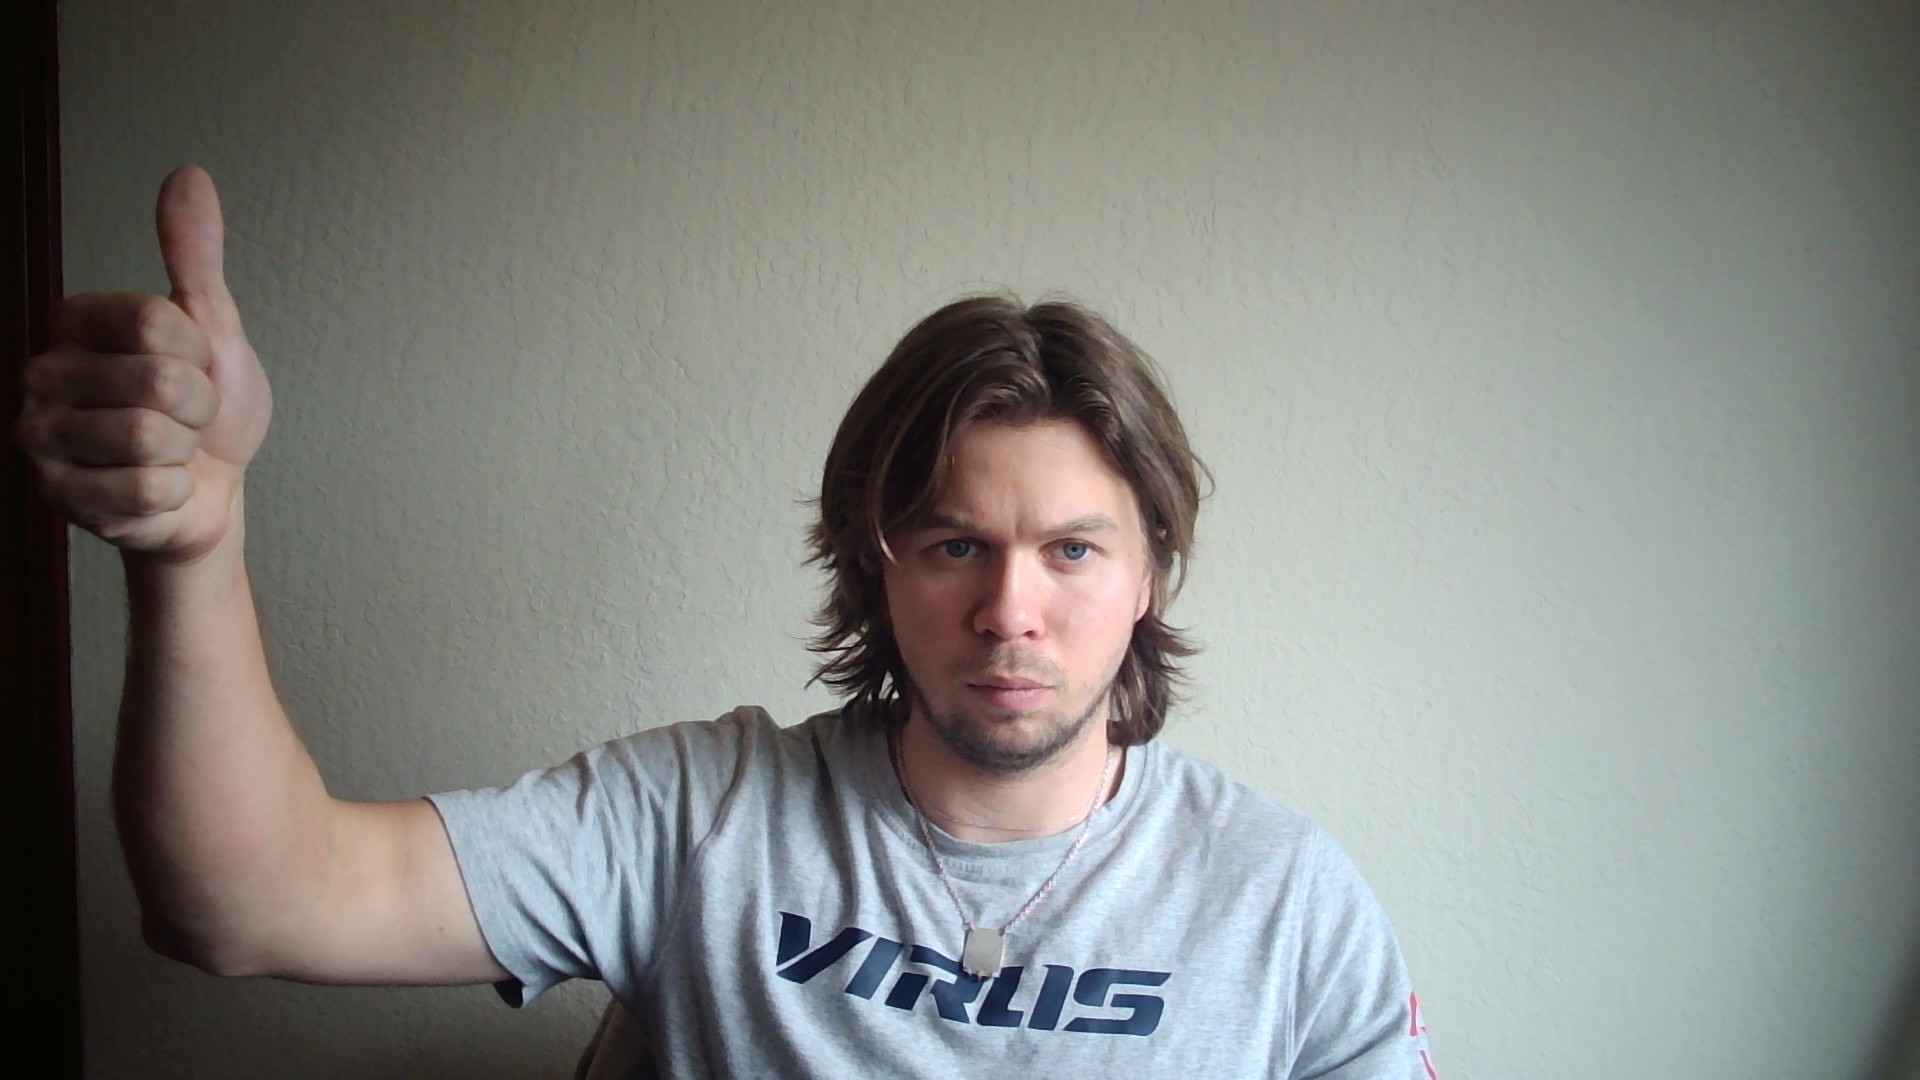good: (17, 162, 274, 571)
